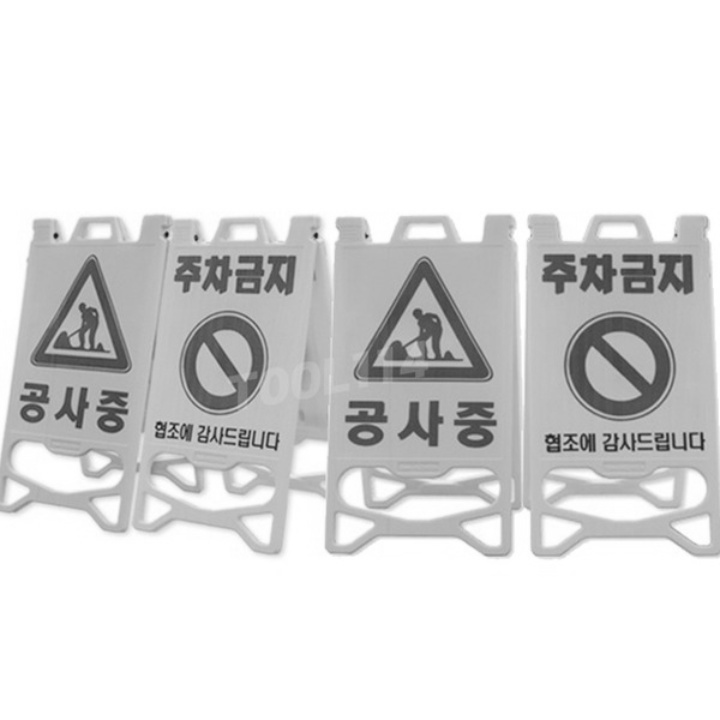const: (379, 296, 460, 363), (43, 286, 115, 355)
